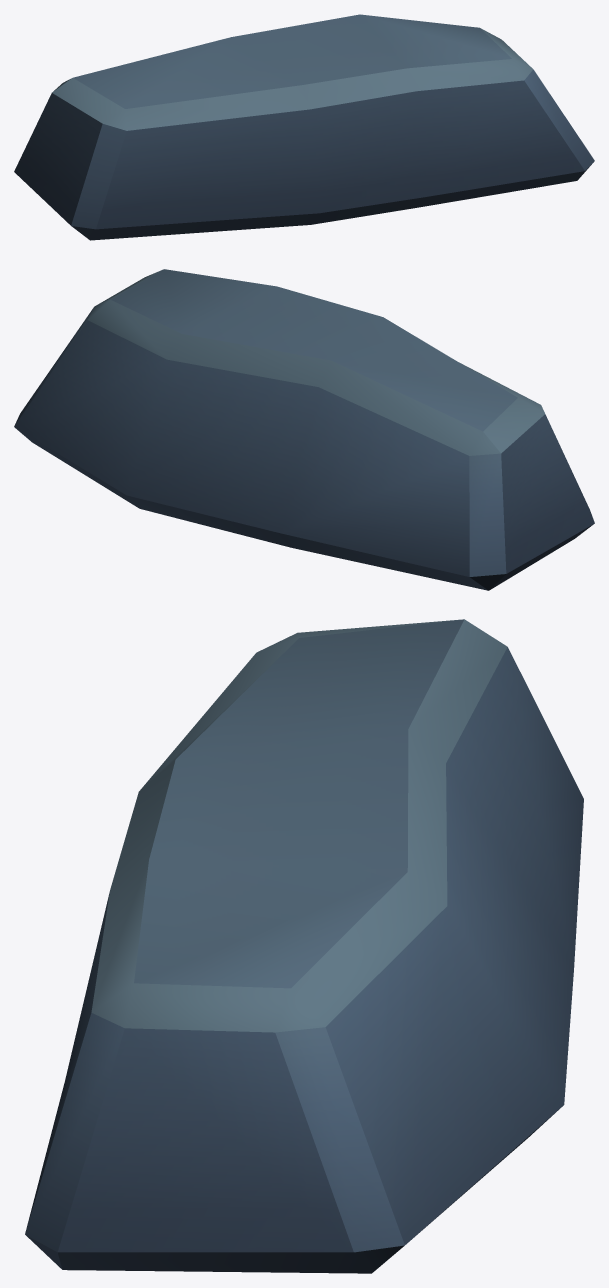
The model's file is rock_small_5.glb.
The picture shows the model from 3 angles, top to bottom: view 1: azimuth 30°, elevation 25°; view 2: azimuth 150°, elevation 25°; view 3: azimuth 270°, elevation 25°; orthographic projection. The views are drawn at different scales.
Visible parts, largest first — view 1: rock_small_5; view 2: rock_small_5; view 3: rock_small_5.
Boxes of the visible parts, box(x1,y1,x2,y2) form: rock_small_5: box(14, 14, 594, 240); rock_small_5: box(14, 269, 594, 590); rock_small_5: box(25, 619, 583, 1273).
Bounding box in the file's own units: 1.88 × 0.5448 × 0.96.
Materials: 1 (1 with a texture image).
